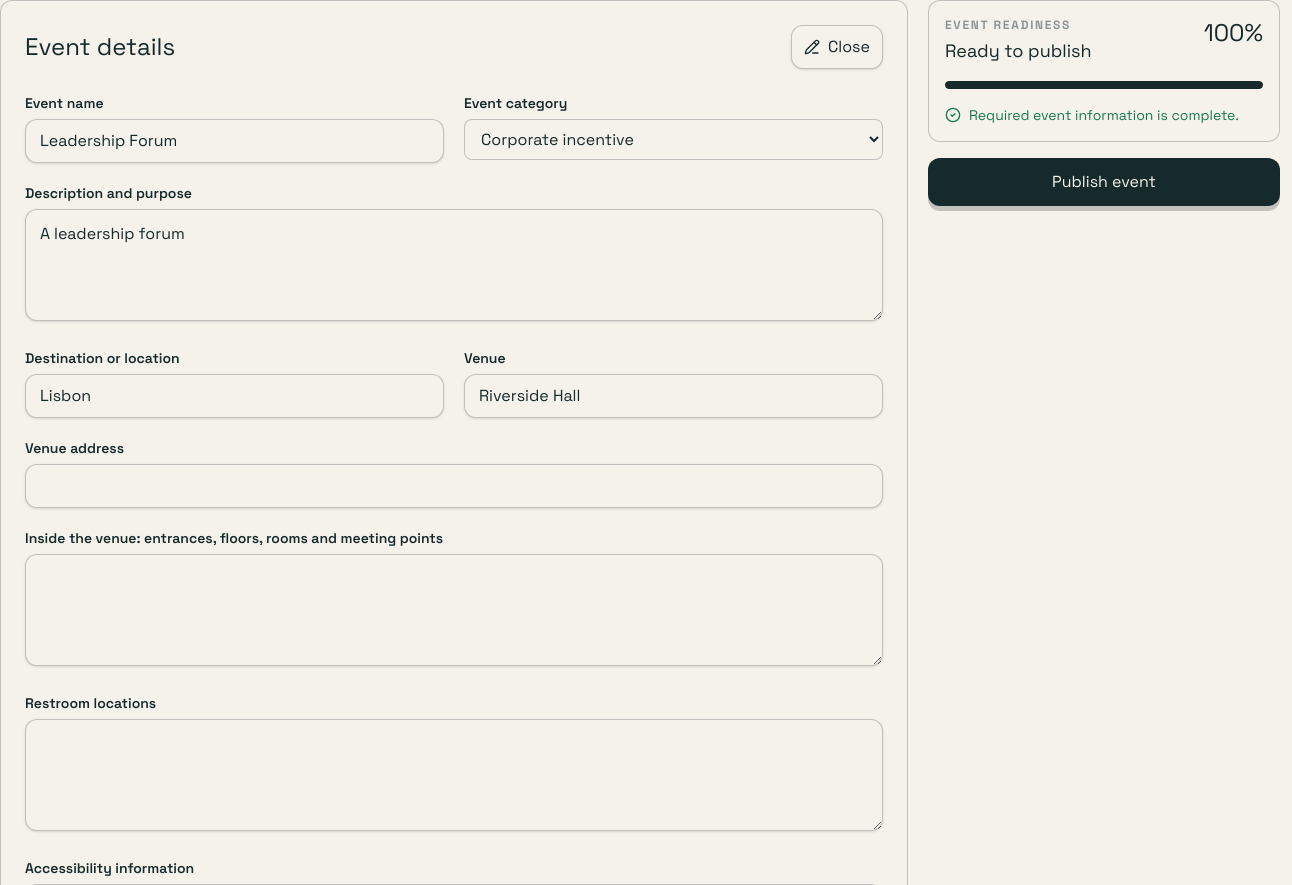
Test case: EventOverviewPage editing › opens the edit form from a direct edit link
Expected: the text box labelled "Description and purpose" holds "A leadership forum", [25, 209, 883, 321]
Click the button "Close".
click(837, 47)  # box [791, 25, 883, 69]
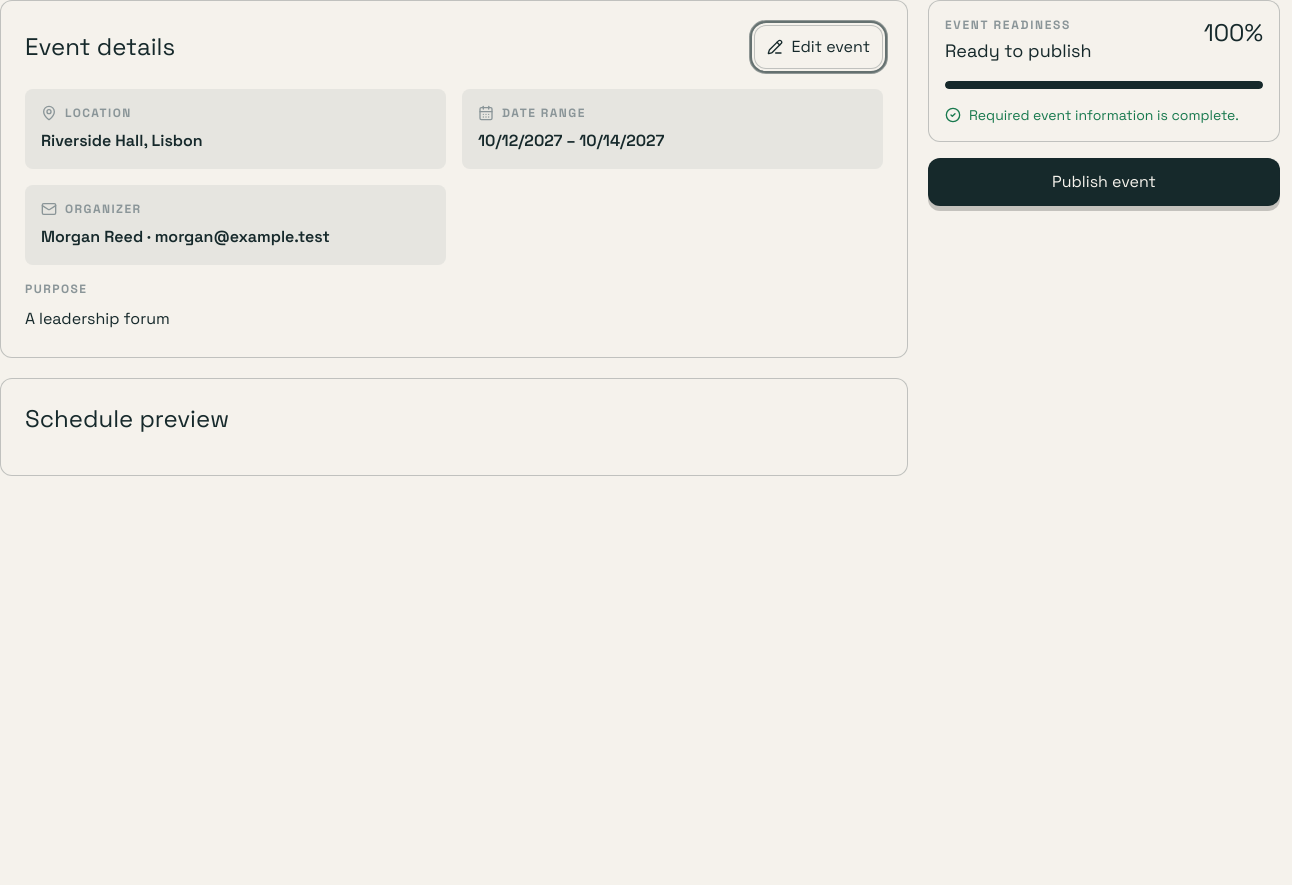
Now the label "Description and purpose" is gone
